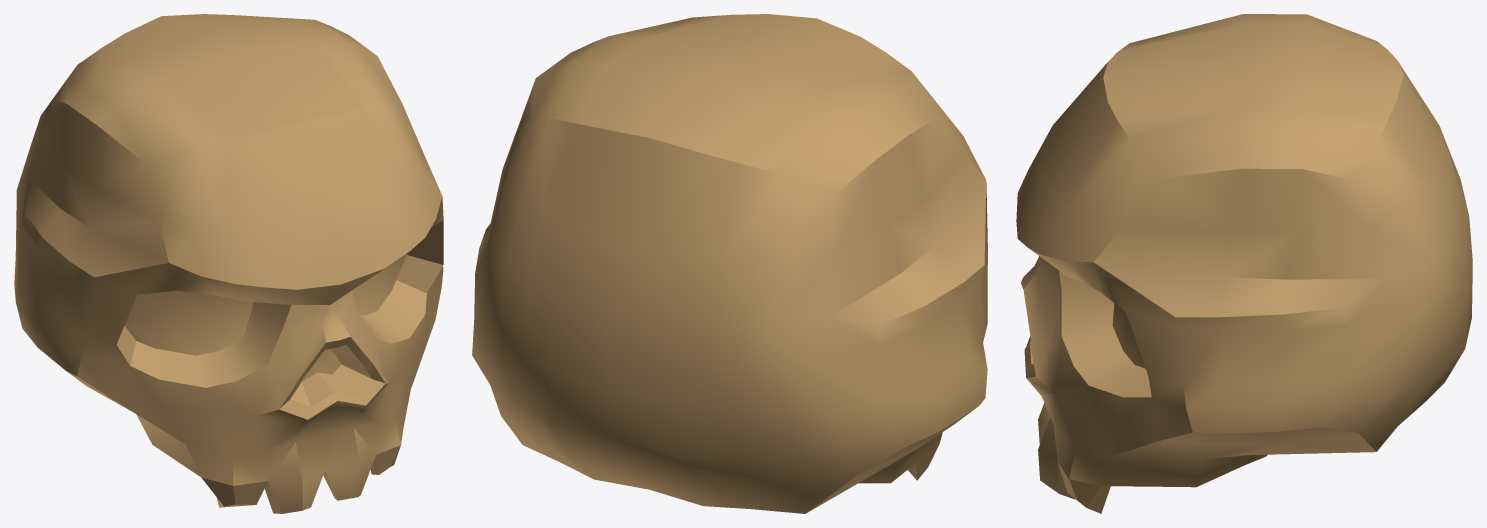
Rendered from prop-skull.glb.
The picture shows the model from 3 angles, left to right: view 1: azimuth 30°, elevation 25°; view 2: azimuth 150°, elevation 25°; view 3: azimuth 270°, elevation 25°; orthographic projection. The views are drawn at different scales.
Visible parts, largest first — view 1: Prop_Skull; view 2: Prop_Skull; view 3: Prop_Skull.
Part boxes in pixels (<box>): Prop_Skull: <box>14,14,443,513</box>; Prop_Skull: <box>472,14,987,513</box>; Prop_Skull: <box>1016,14,1472,513</box>.
Size of the model in its own units: 0.4838 by 0.4846 by 0.4762.
Materials: 1 (1 with a texture image).
